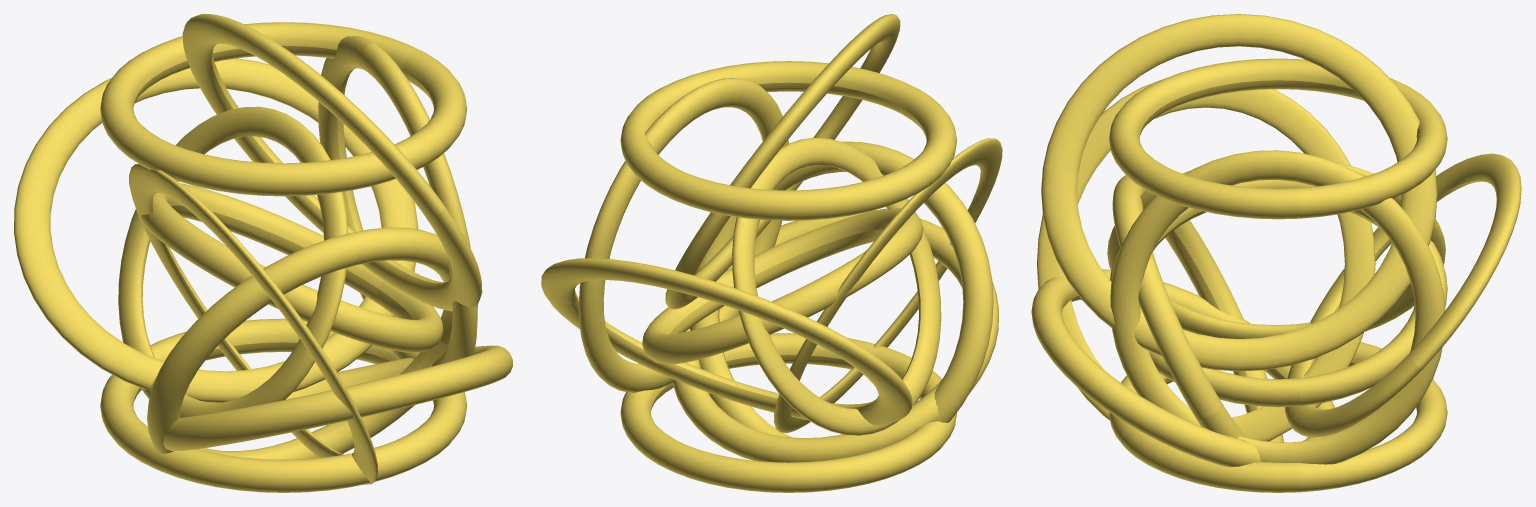
File: sculpture_obj.obj
The picture shows the model from 3 angles, left to right: view 1: azimuth 30°, elevation 25°; view 2: azimuth 150°, elevation 25°; view 3: azimuth 270°, elevation 25°; orthographic projection. The views are drawn at different scales.
Visible parts, largest first — view 1: ohyeah_primitive_torus_plastic_ohyeah_primitive_torus_plast.004, ohyeah_primitive_torus_plastic_ohyeah_primitive_torus_plast.005, ohyeah_primitive_torus_plastic_ohyeah_primitive_torus_plast.006, ohyeah_primitive_torus_plastic_ohyeah_primitive_torus_plast.003, ohyeah_primitive_torus_plastic_ohyeah_primitive_torus_plast.008, ohyeah_primitive_torus_plastic_ohyeah_primitive_torus_plastic_m, ohyeah_primitive_torus_plastic_ohyeah_primitive_torus_plast.001, ohyeah_primitive_torus_plastic_ohyeah_primitive_torus_plast.007, ohyeah_primitive_torus_plastic_ohyeah_primitive_torus_plast, ohyeah_primitive_torus_plastic_ohyeah_primitive_torus_plast.002; view 2: ohyeah_primitive_torus_plastic_ohyeah_primitive_torus_plast.005, ohyeah_primitive_torus_plastic_ohyeah_primitive_torus_plast.006, ohyeah_primitive_torus_plastic_ohyeah_primitive_torus_plast.004, ohyeah_primitive_torus_plastic_ohyeah_primitive_torus_plast.001, ohyeah_primitive_torus_plastic_ohyeah_primitive_torus_plastic_m, ohyeah_primitive_torus_plastic_ohyeah_primitive_torus_plast.003, ohyeah_primitive_torus_plastic_ohyeah_primitive_torus_plast.002, ohyeah_primitive_torus_plastic_ohyeah_primitive_torus_plast.007, ohyeah_primitive_torus_plastic_ohyeah_primitive_torus_plast.008, ohyeah_primitive_torus_plastic_ohyeah_primitive_torus_plast; view 3: ohyeah_primitive_torus_plastic_ohyeah_primitive_torus_plast.008, ohyeah_primitive_torus_plastic_ohyeah_primitive_torus_plast.002, ohyeah_primitive_torus_plastic_ohyeah_primitive_torus_plast.005, ohyeah_primitive_torus_plastic_ohyeah_primitive_torus_plast, ohyeah_primitive_torus_plastic_ohyeah_primitive_torus_plast.004, ohyeah_primitive_torus_plastic_ohyeah_primitive_torus_plast.006, ohyeah_primitive_torus_plastic_ohyeah_primitive_torus_plast.007, ohyeah_primitive_torus_plastic_ohyeah_primitive_torus_plast.003, ohyeah_primitive_torus_plastic_ohyeah_primitive_torus_plastic_m, ohyeah_primitive_torus_plastic_ohyeah_primitive_torus_plast.001.
Boxes of the visible parts, x1,y1,x2,y2 form: ohyeah_primitive_torus_plastic_ohyeah_primitive_torus_plast.004: (14, 58, 418, 402); ohyeah_primitive_torus_plastic_ohyeah_primitive_torus_plast.005: (100, 22, 467, 196); ohyeah_primitive_torus_plastic_ohyeah_primitive_torus_plast.006: (100, 318, 466, 492); ohyeah_primitive_torus_plastic_ohyeah_primitive_torus_plast.003: (147, 227, 478, 459); ohyeah_primitive_torus_plastic_ohyeah_primitive_torus_plast.008: (182, 14, 482, 311); ohyeah_primitive_torus_plastic_ohyeah_primitive_torus_plastic_m: (140, 183, 443, 352); ohyeah_primitive_torus_plastic_ohyeah_primitive_torus_plast.001: (118, 106, 348, 417); ohyeah_primitive_torus_plastic_ohyeah_primitive_torus_plast.007: (163, 345, 512, 450); ohyeah_primitive_torus_plastic_ohyeah_primitive_torus_plast: (129, 164, 378, 484); ohyeah_primitive_torus_plastic_ohyeah_primitive_torus_plast.002: (318, 36, 477, 366); ohyeah_primitive_torus_plastic_ohyeah_primitive_torus_plast.005: (620, 61, 956, 220); ohyeah_primitive_torus_plastic_ohyeah_primitive_torus_plast.006: (620, 333, 956, 492); ohyeah_primitive_torus_plastic_ohyeah_primitive_torus_plast.004: (541, 258, 912, 425); ohyeah_primitive_torus_plastic_ohyeah_primitive_torus_plast.001: (732, 137, 941, 435); ohyeah_primitive_torus_plastic_ohyeah_primitive_torus_plastic_m: (642, 207, 923, 364); ohyeah_primitive_torus_plastic_ohyeah_primitive_torus_plast.003: (689, 141, 993, 437); ohyeah_primitive_torus_plastic_ohyeah_primitive_torus_plast.002: (578, 78, 788, 392); ohyeah_primitive_torus_plastic_ohyeah_primitive_torus_plast.007: (672, 210, 998, 462); ohyeah_primitive_torus_plastic_ohyeah_primitive_torus_plast.008: (665, 14, 900, 309); ohyeah_primitive_torus_plastic_ohyeah_primitive_torus_plast: (773, 138, 1002, 432); ohyeah_primitive_torus_plastic_ohyeah_primitive_torus_plast.008: (1041, 14, 1437, 371); ohyeah_primitive_torus_plastic_ohyeah_primitive_torus_plast.002: (1110, 150, 1445, 464); ohyeah_primitive_torus_plastic_ohyeah_primitive_torus_plast.005: (1109, 58, 1447, 219); ohyeah_primitive_torus_plastic_ohyeah_primitive_torus_plast: (1037, 79, 1375, 441); ohyeah_primitive_torus_plastic_ohyeah_primitive_torus_plast.004: (1284, 153, 1521, 437); ohyeah_primitive_torus_plastic_ohyeah_primitive_torus_plast.006: (1109, 342, 1447, 492); ohyeah_primitive_torus_plastic_ohyeah_primitive_torus_plast.007: (1031, 269, 1334, 467); ohyeah_primitive_torus_plastic_ohyeah_primitive_torus_plast.003: (1112, 175, 1283, 442); ohyeah_primitive_torus_plastic_ohyeah_primitive_torus_plastic_m: (1110, 180, 1447, 407); ohyeah_primitive_torus_plastic_ohyeah_primitive_torus_plast.001: (1107, 162, 1445, 338).
Bounding box in the file's own units: 24.2 × 28.21 × 28.95.
